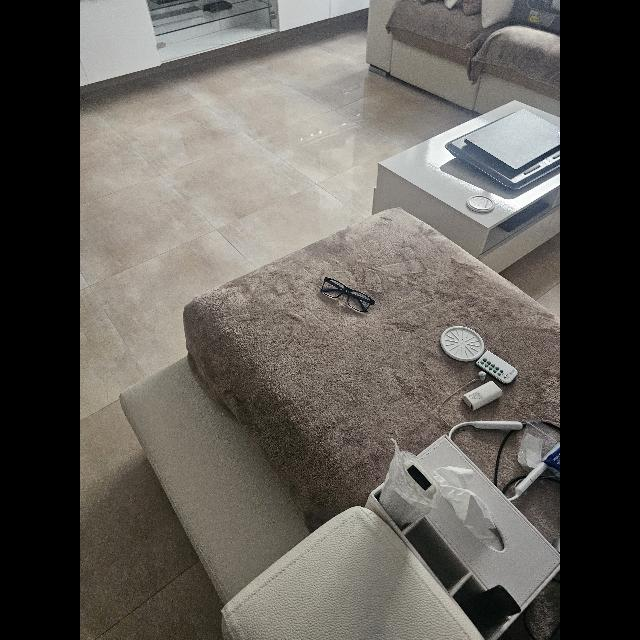glasses: (321, 278, 375, 312)
